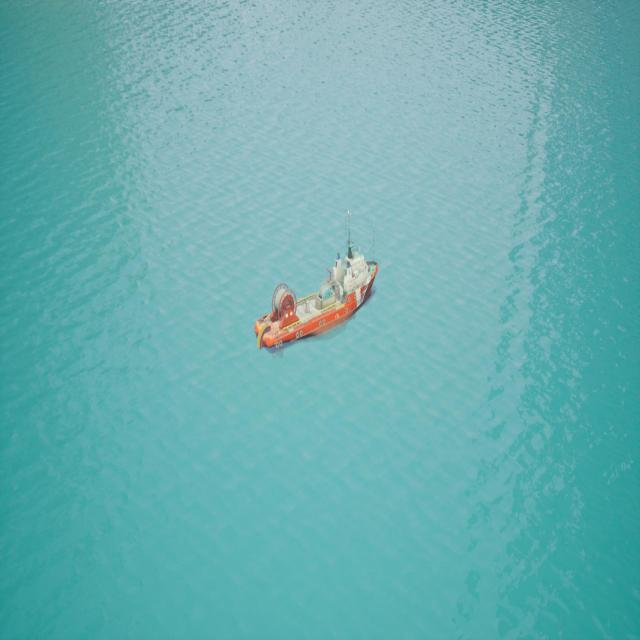tug boat: (258, 250, 380, 353)
